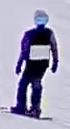snowboarder: (0, 11, 58, 121)
